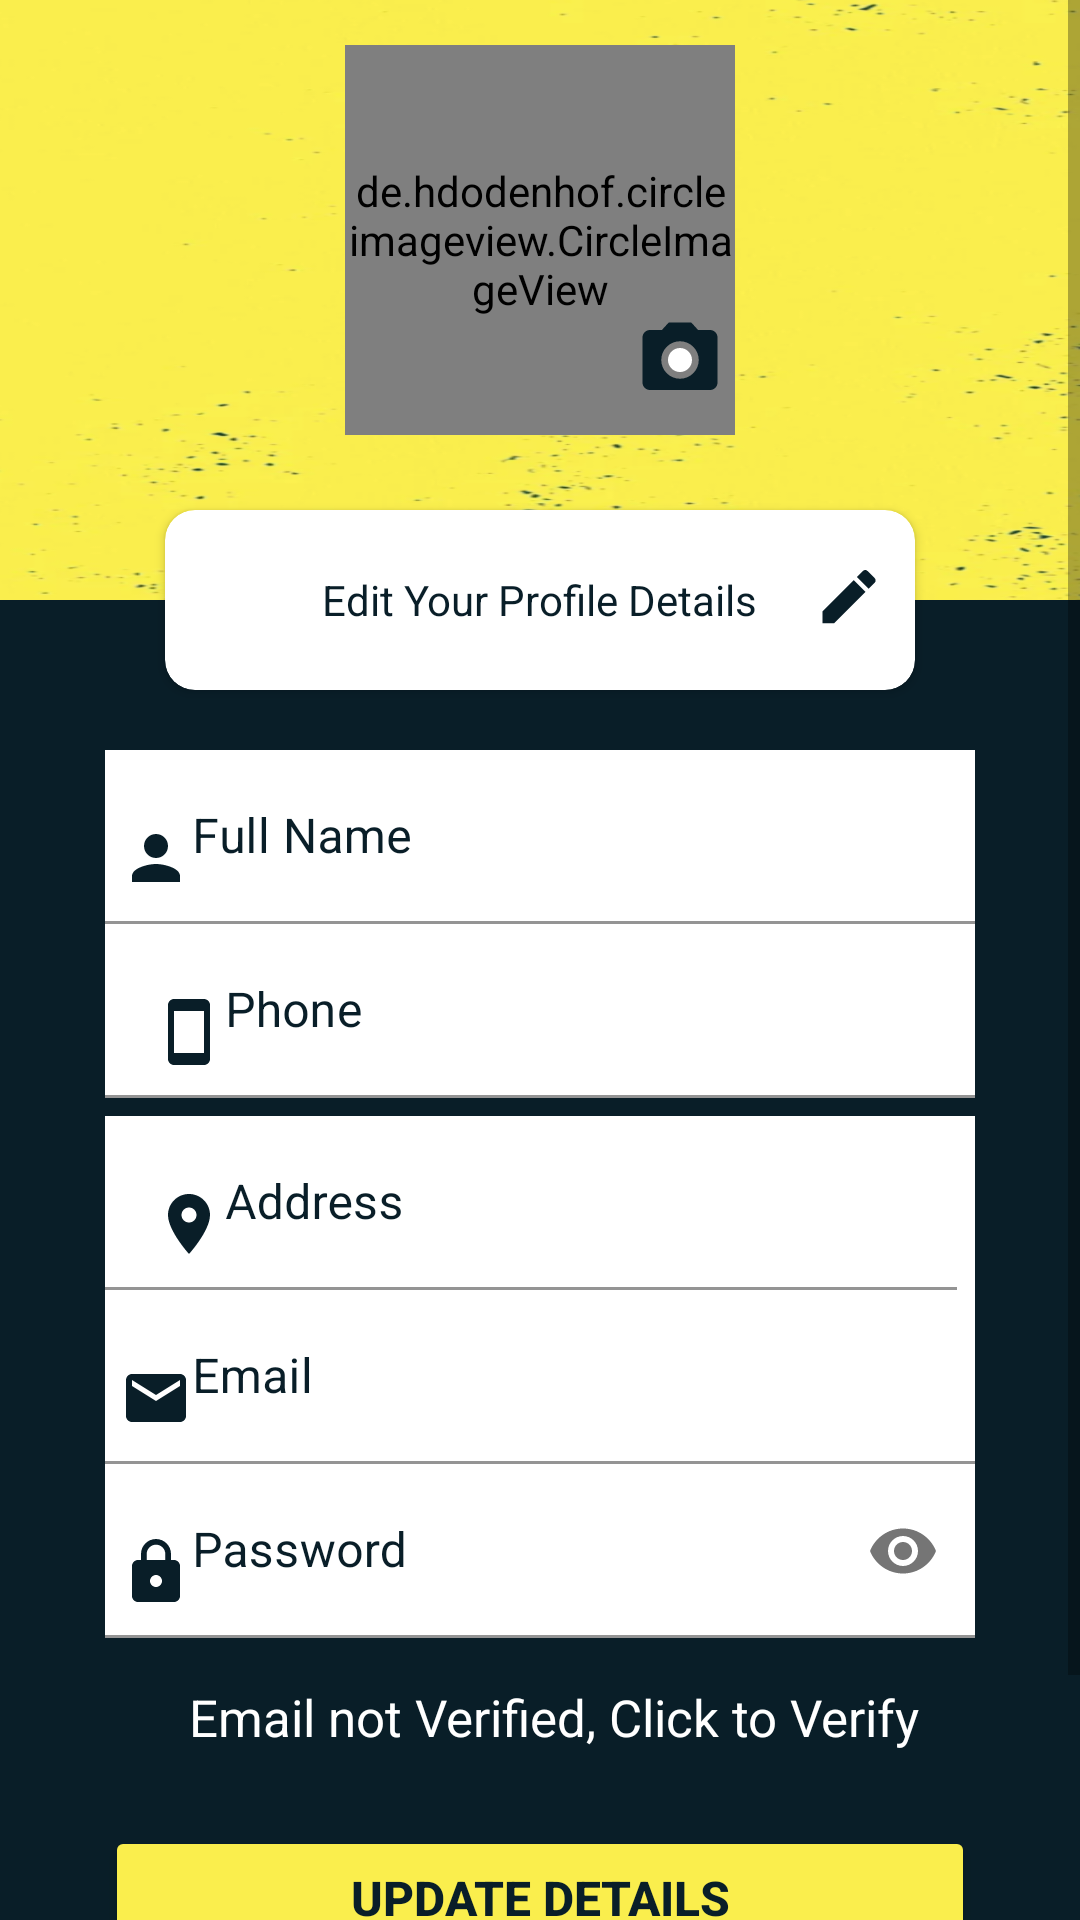

Icon click points for this 1080px×1920px phone screenshot, format point (x, y):
camera: point (680, 356)
edit sign: point (849, 597)
